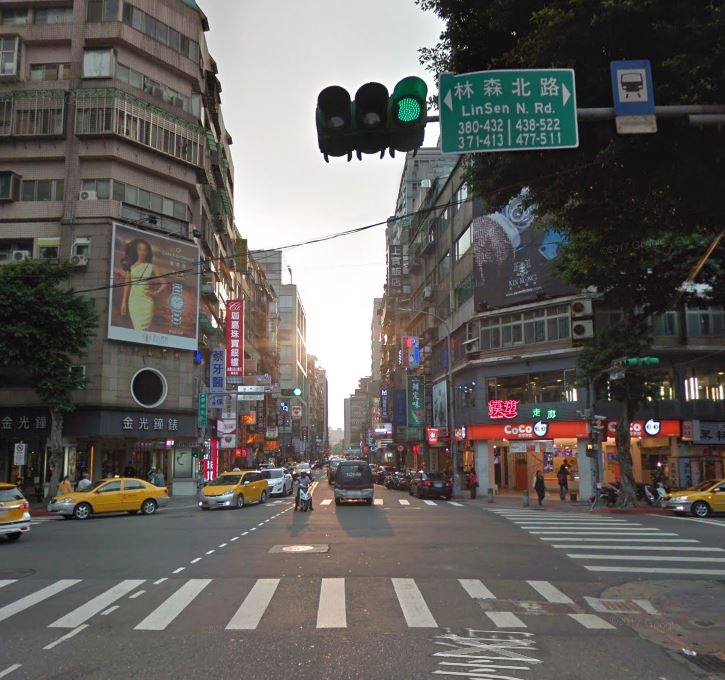Traffic_light_green: (312, 74, 430, 165), (281, 386, 302, 399)
car: (48, 472, 172, 521), (197, 466, 272, 512)
motorcycle: (294, 477, 315, 511)
